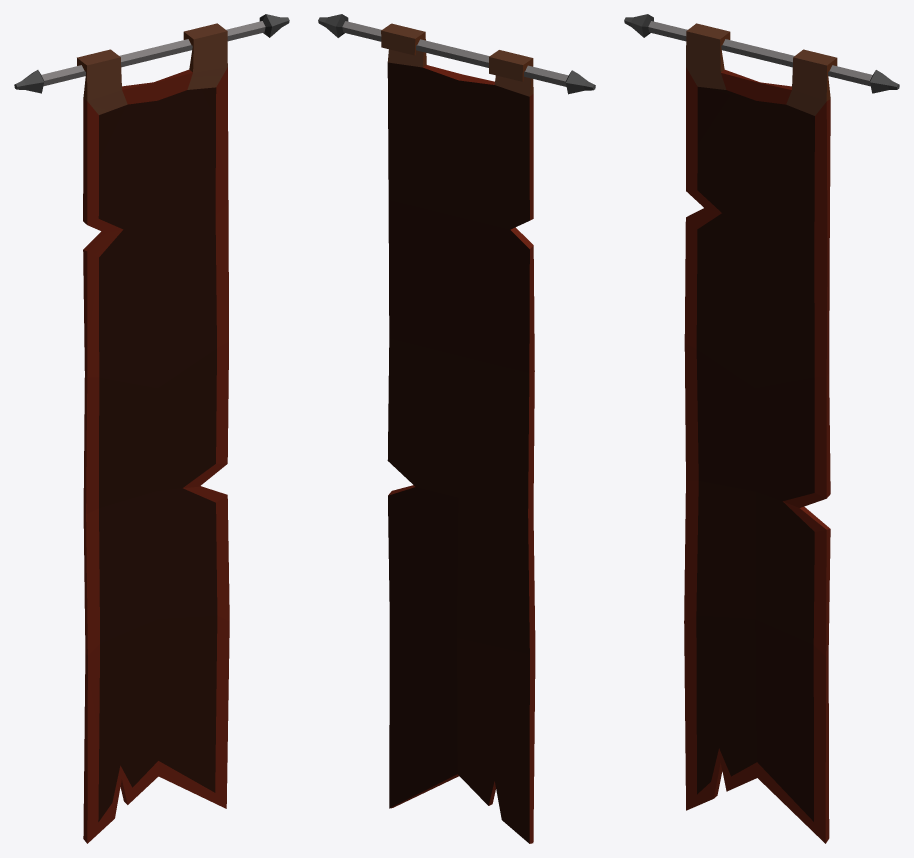
The model's file is Banner_Red_01.glb.
3 views of the same model, side by side, from view 1: azimuth 30°, elevation 25°; view 2: azimuth 150°, elevation 25°; view 3: azimuth 330°, elevation 25° (orthographic).
Visible parts, largest first — view 1: Banner_Red_01; view 2: Banner_Red_01; view 3: Banner_Red_01.
Part boxes in pixels (x1,y1,x2,y2): Banner_Red_01: [14, 14, 289, 843]; Banner_Red_01: [318, 14, 595, 843]; Banner_Red_01: [624, 14, 899, 843].
Size of what is drawn, in the model's own units: 0.6598 by 1.81 by 0.0546.
1 material, 1 textured.
